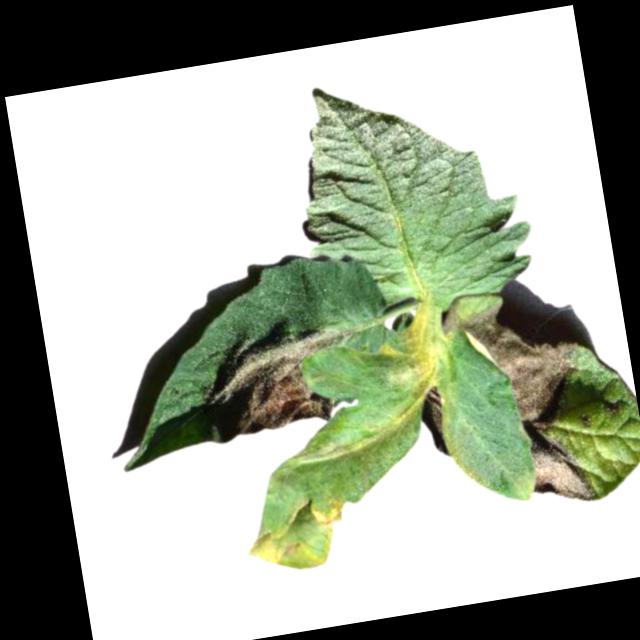Late_blight: (461, 295, 598, 516), (193, 322, 353, 447), (239, 490, 356, 579), (373, 318, 452, 407), (416, 382, 455, 460), (439, 301, 465, 337)
healthy: (284, 57, 544, 320)
